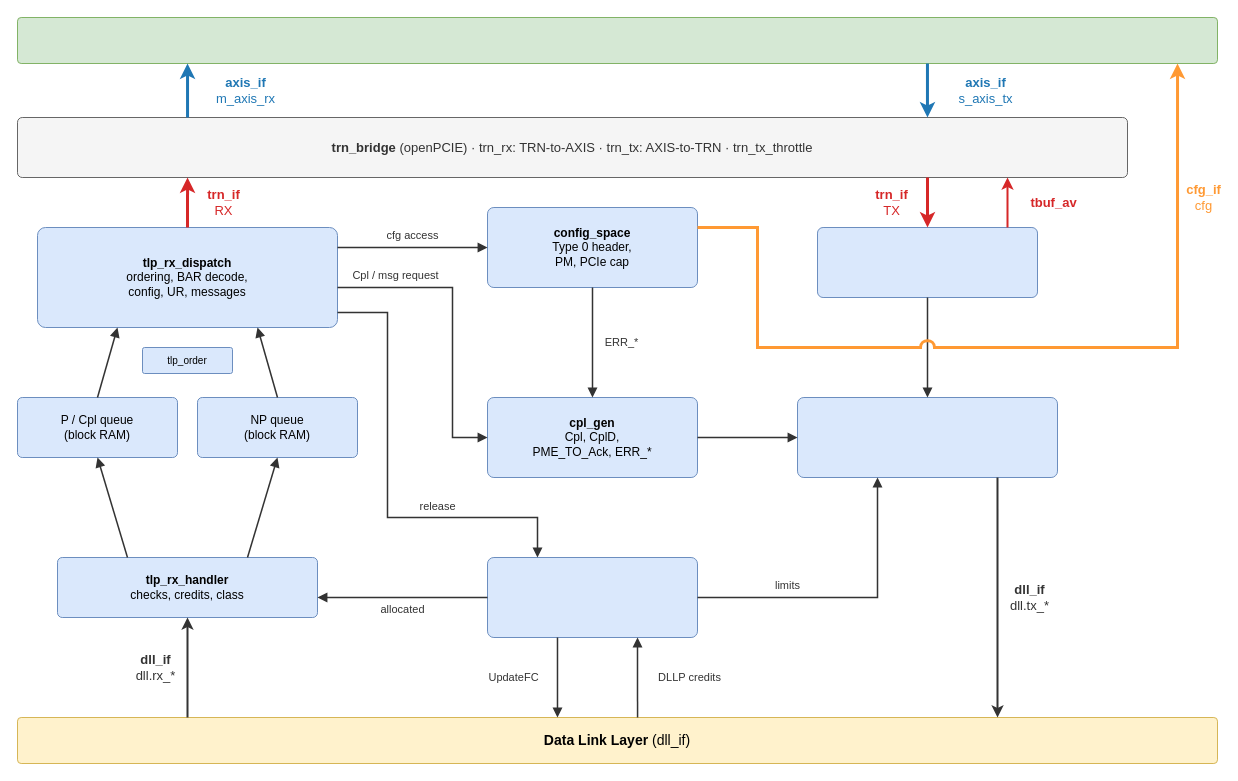
Image size: 1238x781. Some labels were removed from this diagram. Each missing label, with the box of its shape:
fc_credit TX limits, RX allocated: (486, 556, 698, 638)
SOC (riscv_pcie_soc): (16, 16, 1218, 64)
tlp_tx_arbiter credit gate, ordering, one TLP at a time: (796, 396, 1058, 478)
TX buffer (tlp_queue) TX_SLOTS TLPs, 128-byte payload: (816, 226, 1038, 298)
